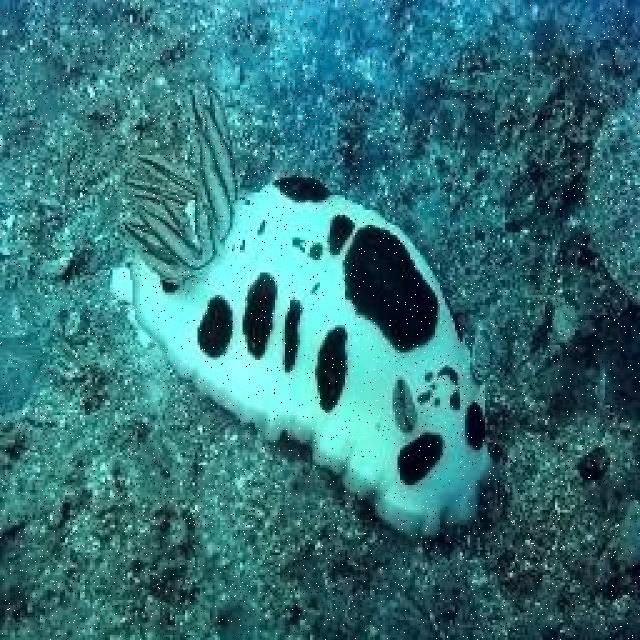reefs: (107, 86, 503, 541)
